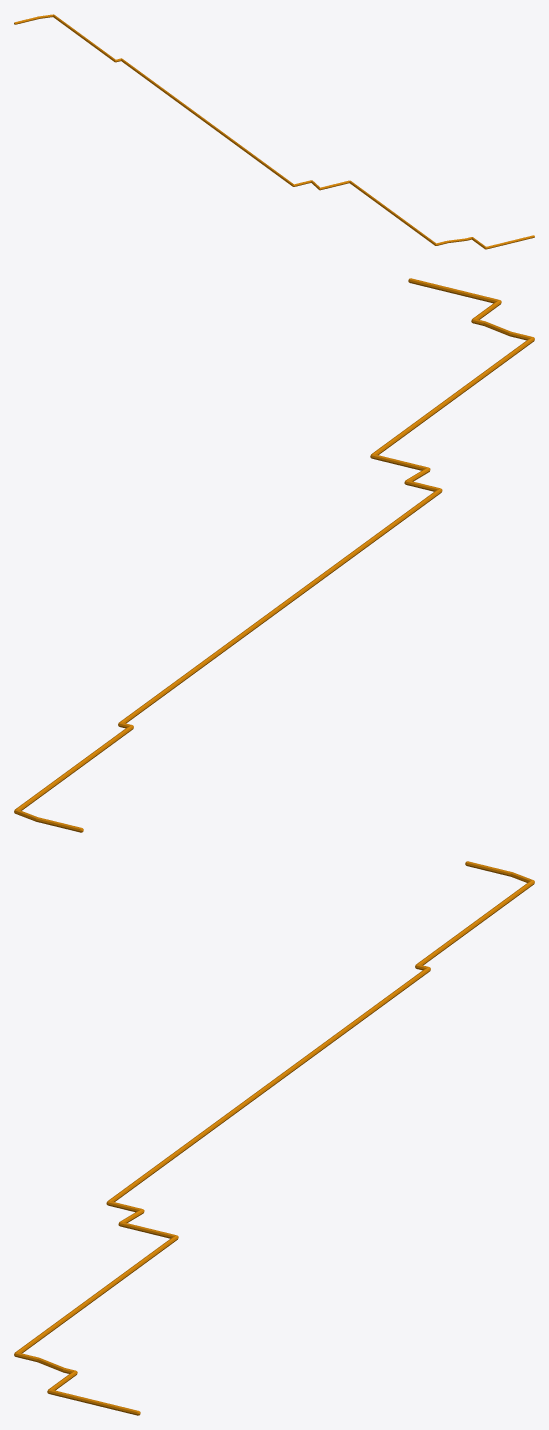
3 renders of one model, top to bottom at view 1: azimuth 30°, elevation 25°; view 2: azimuth 150°, elevation 25°; view 3: azimuth 330°, elevation 25°, orthographic. The views are drawn at different scales.
Bounding box in the file's own units: 1447 × 20 × 5068.
